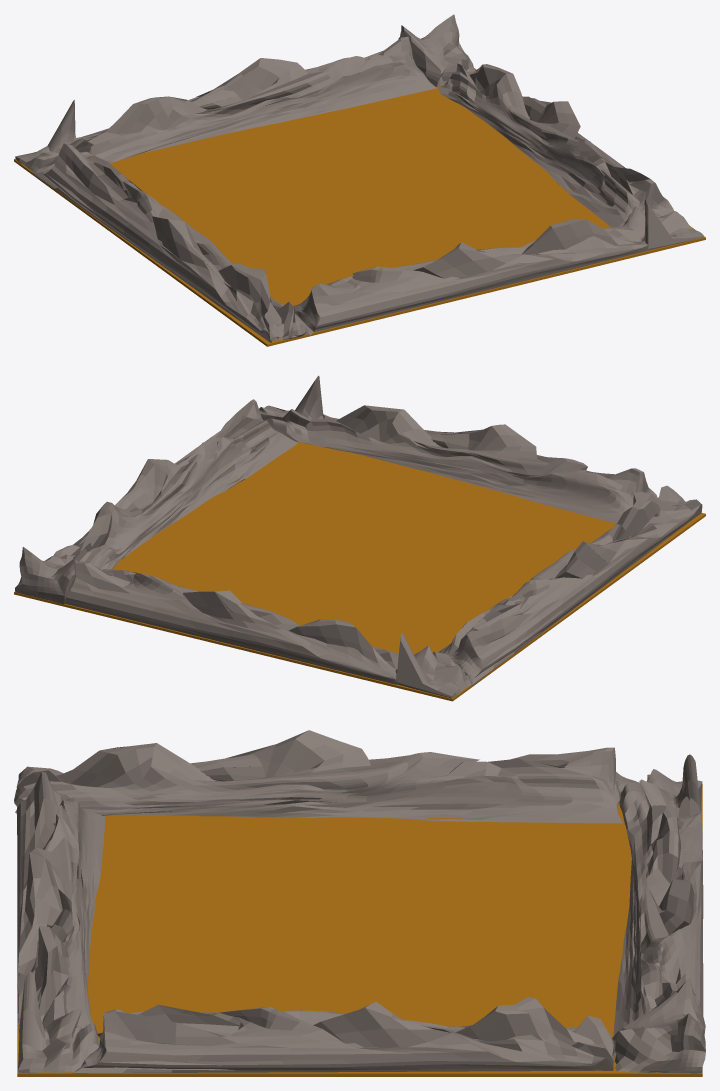
File: area_51.0 (Unity).fbx
The picture shows the model from 3 angles, top to bottom: view 1: azimuth 30°, elevation 25°; view 2: azimuth 150°, elevation 25°; view 3: azimuth 270°, elevation 25°; orthographic projection. The views are drawn at different scales.
Visible parts, largest first — view 1: Area_51, Mount.002, Mount.003, Mount.001, Mount.004, Mount; view 2: Area_51, Mount.003, Mount.002, Mount.001, Mount.004, Mount; view 3: Area_51, Mount.001, Mount.004, Mount.003, Mount.002, Mount.
Part boxes in pixels (<box>): Area_51: <box>14,68,705,346</box>; Mount.002: <box>15,36,436,172</box>; Mount.003: <box>293,199,703,331</box>; Mount.001: <box>33,143,313,342</box>; Mount.004: <box>438,63,673,227</box>; Mount: <box>398,14,475,87</box>; Area_51: <box>14,442,705,701</box>; Mount.003: <box>259,375,657,523</box>; Mount.002: <box>65,563,471,698</box>; Mount.001: <box>438,485,702,685</box>; Mount.004: <box>53,399,297,569</box>; Mount: <box>15,547,76,604</box>; Area_51: <box>17,784,702,1076</box>; Mount.001: <box>14,730,640,823</box>; Mount.004: <box>73,997,615,1073</box>; Mount.003: <box>17,771,105,1073</box>; Mount.002: <box>613,754,703,1035</box>; Mount: <box>612,977,705,1073</box>.
Bounding box in the file's own units: 10944 × 1225 × 11012.
